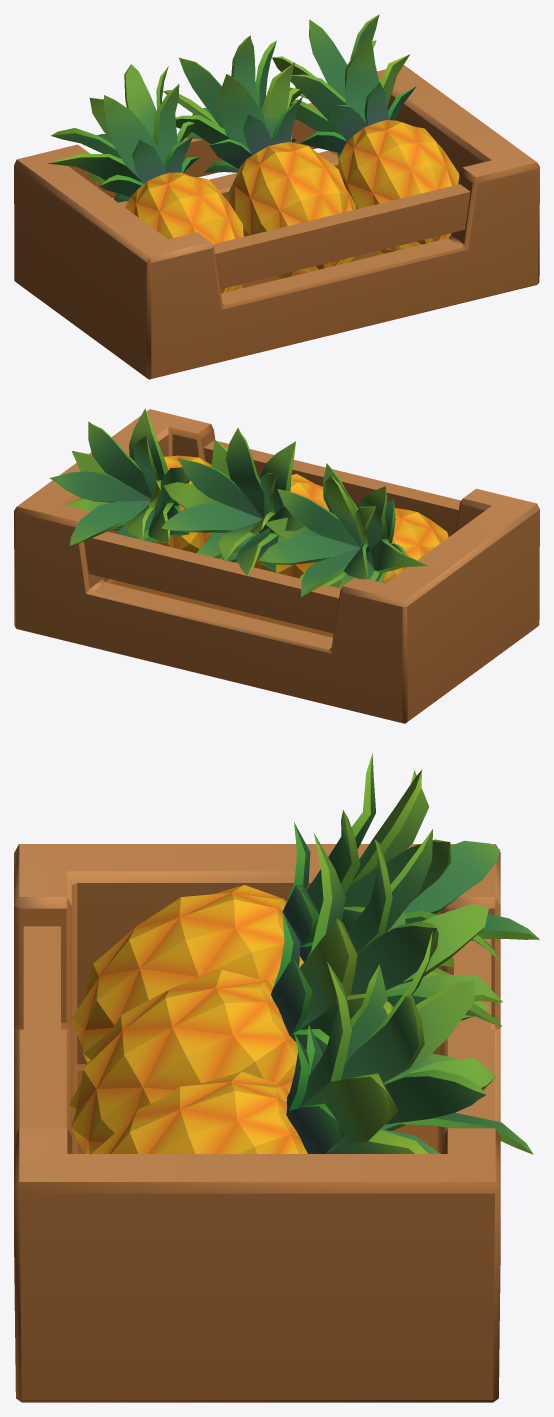
File: Fruit_Crate_Pineapples_01.fbx
3 renders of one model, top to bottom at view 1: azimuth 30°, elevation 25°; view 2: azimuth 150°, elevation 25°; view 3: azimuth 270°, elevation 25°, orthographic. The views are drawn at different scales.
Parts seen in each view (by area): view 1: Fruit_Crate_Pineapples_01; view 2: Fruit_Crate_Pineapples_01; view 3: Fruit_Crate_Pineapples_01.
Boxes of the visible parts, x1,y1,x2,y2 form: Fruit_Crate_Pineapples_01: (14,14,539,379); Fruit_Crate_Pineapples_01: (14,408,539,723); Fruit_Crate_Pineapples_01: (14,753,539,1402).
Bounding box in the file's own units: 2 × 1.09 × 1.3.
